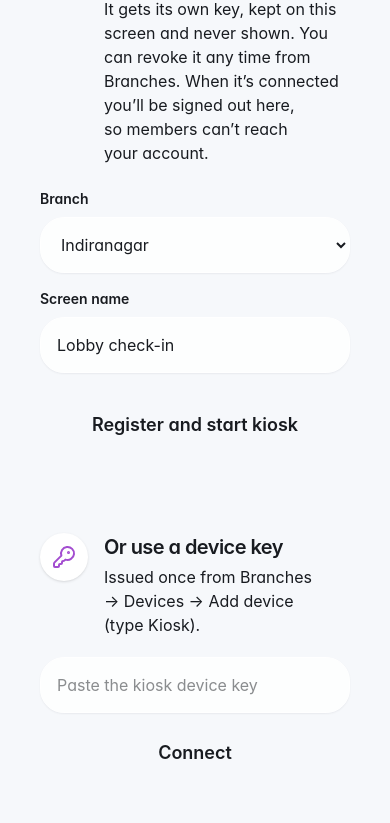
Test case: kiosk setup › lets signed-in staff register this screen, then signs them out
(page scrolled)
Step 1. Click the button "Register and start kiosk" → (195, 425), box [40,397,350,453]
(page scrolled)
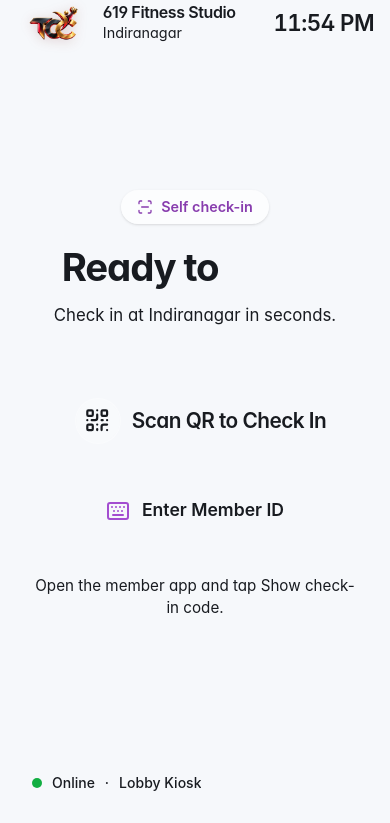
expect the button "Scan QR to Check In" is shown: met, box [16,378,374,462]
